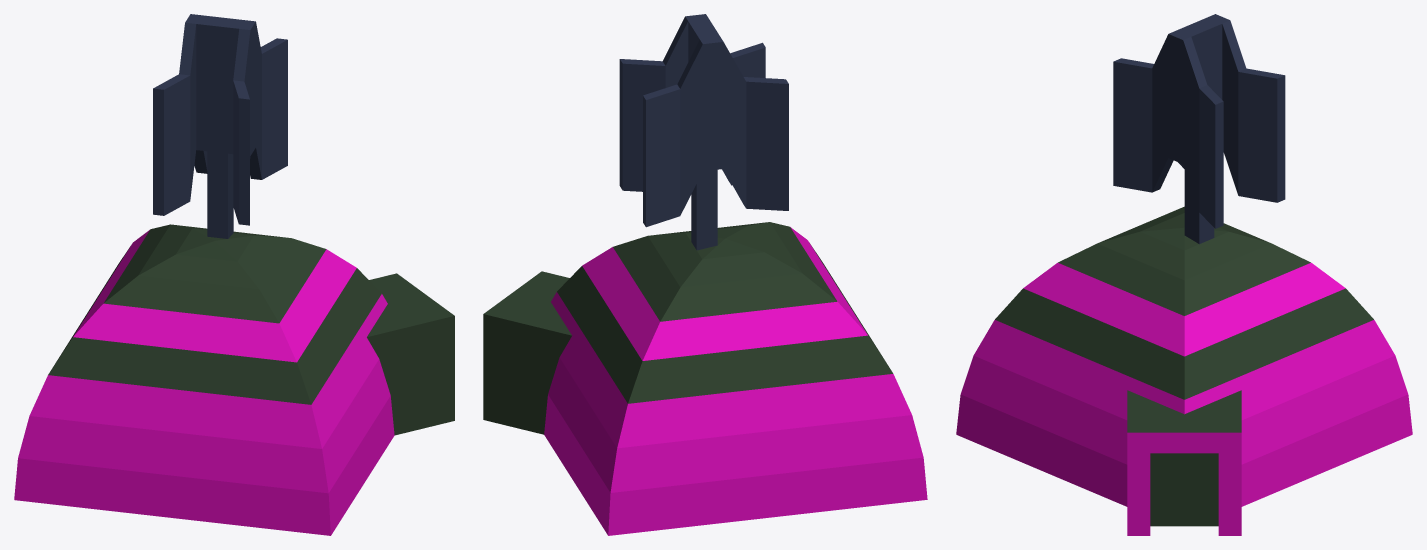
The model's file is Research Tent.fbx.
The picture shows the model from 3 angles, left to right: view 1: azimuth 30°, elevation 25°; view 2: azimuth 150°, elevation 25°; view 3: azimuth 270°, elevation 25°; orthographic projection. The views are drawn at different scales.
Visible parts, largest first — view 1: Sphere; view 2: Sphere; view 3: Sphere.
Part boxes in pixels (x1,y1,x2,y2): Sphere: [14, 14, 454, 535]; Sphere: [483, 14, 927, 535]; Sphere: [956, 14, 1412, 535].
Bounding box in the file's own units: 205 × 200 × 200.
